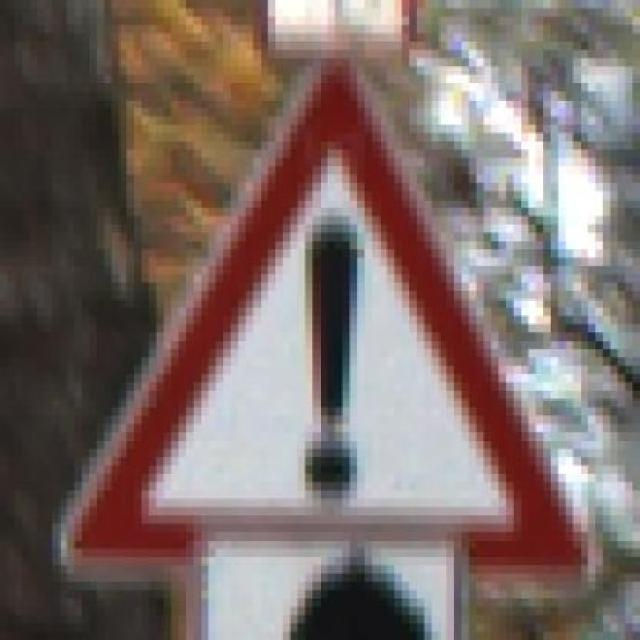Attention Please-: (52, 41, 596, 607)
